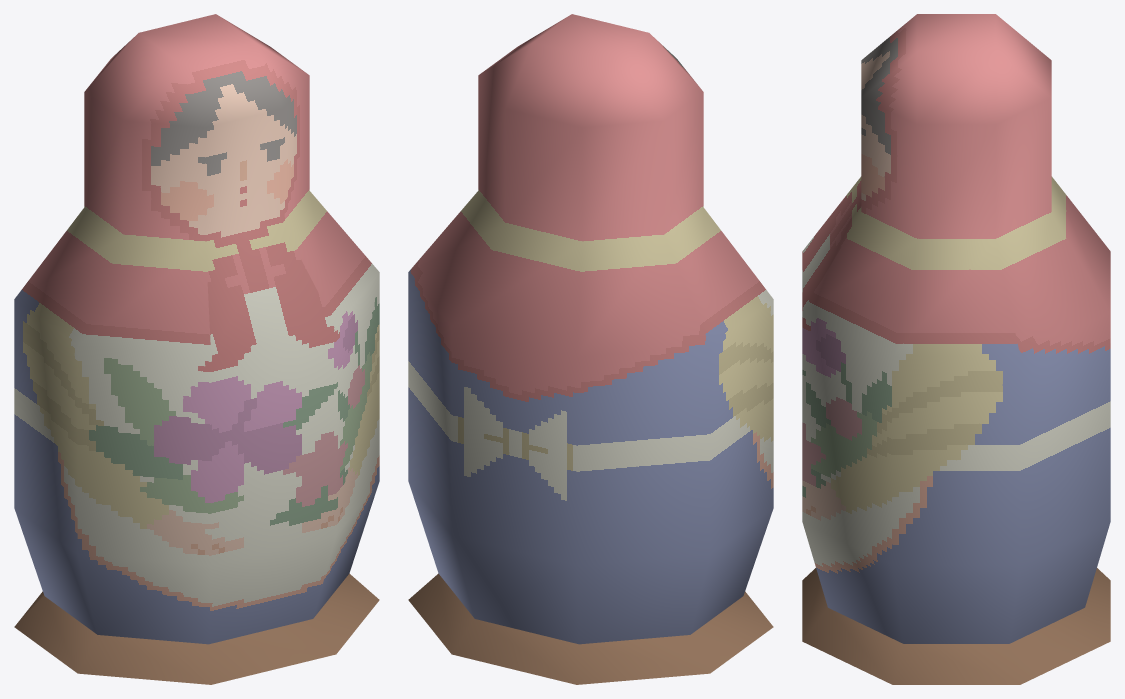
The model's file is 00dc_Russian_Doll_XL.glb.
3 renders of one model, left to right at view 1: azimuth 30°, elevation 25°; view 2: azimuth 150°, elevation 25°; view 3: azimuth 270°, elevation 25°, orthographic.
Parts seen in each view (by area): view 1: part_0; view 2: part_0; view 3: part_0.
Boxes of the visible parts, x1,y1,x2,y2 form: part_0: (14, 14, 379, 684); part_0: (408, 14, 773, 684); part_0: (802, 14, 1110, 684).
Bounding box in the file's own units: 0.8454 × 1.54 × 0.7443.
Materials: 1 (1 with a texture image).
